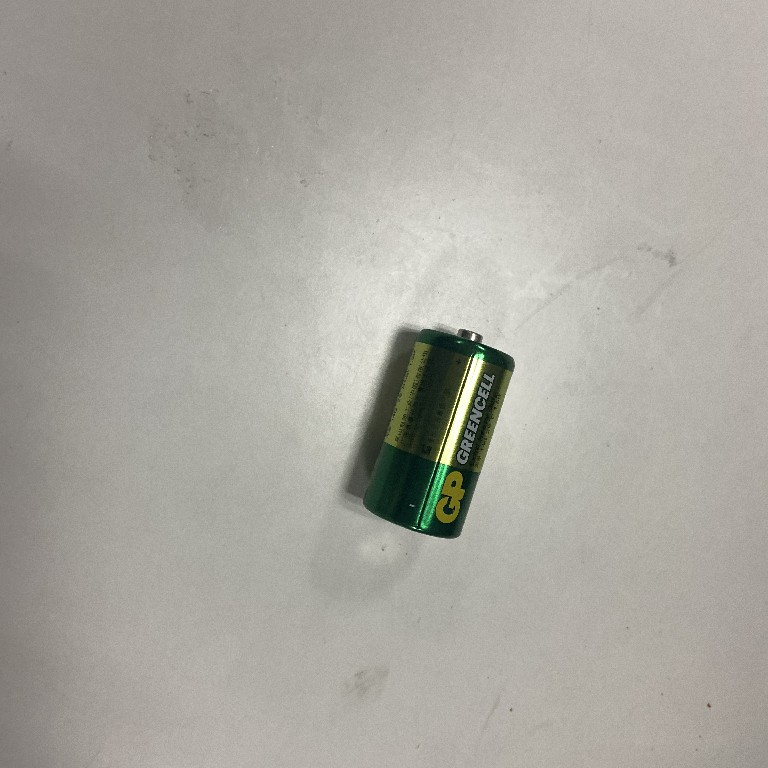charge: (355, 318, 520, 544)
